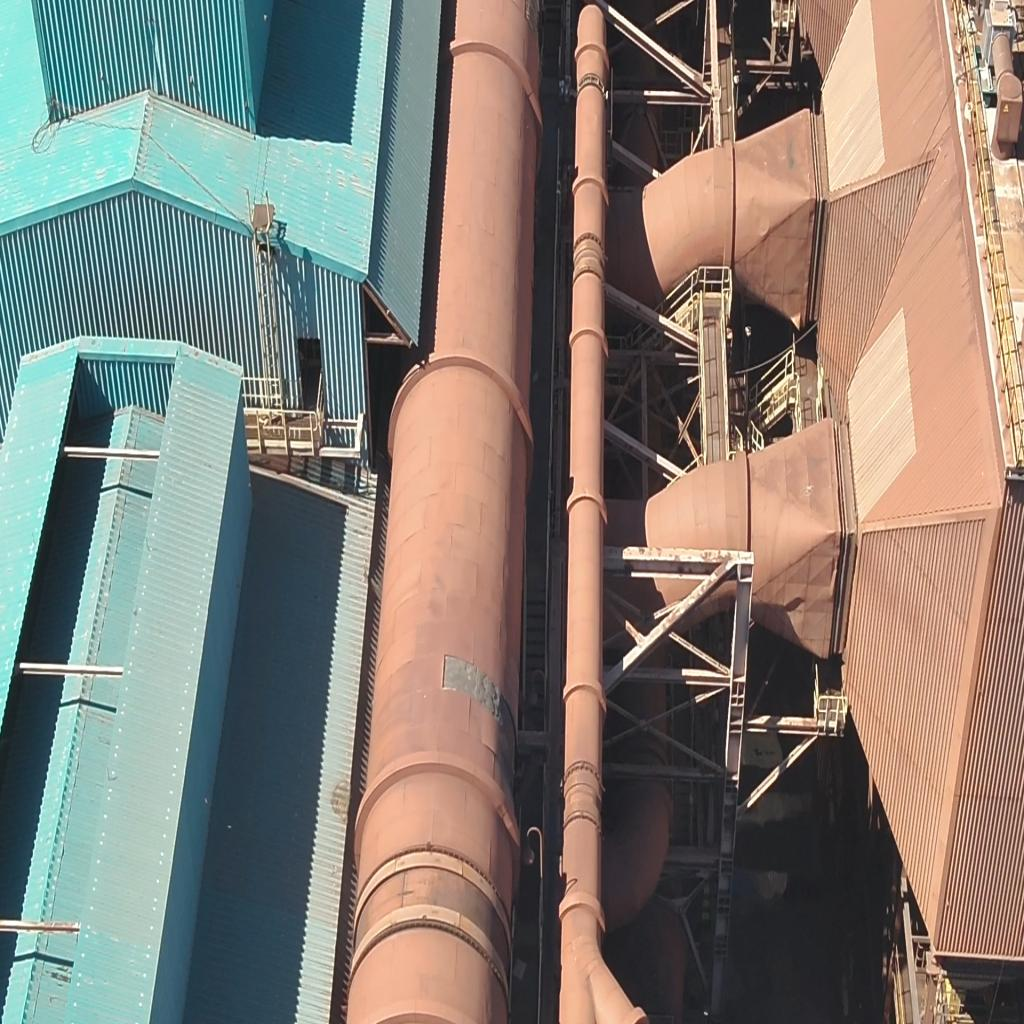Failures: (439, 638, 517, 776)
